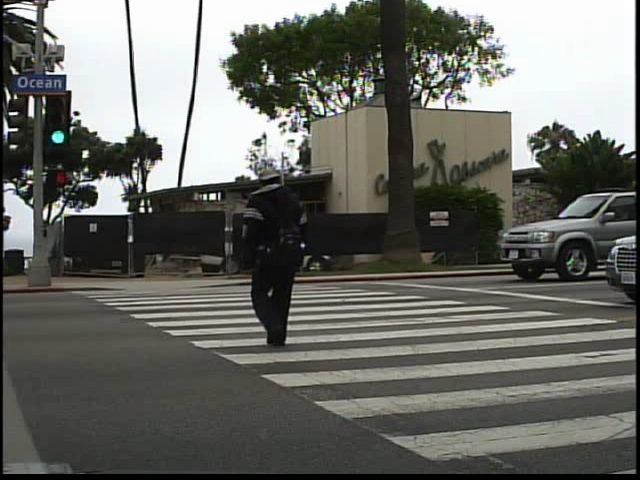person: (226, 163, 326, 355)
